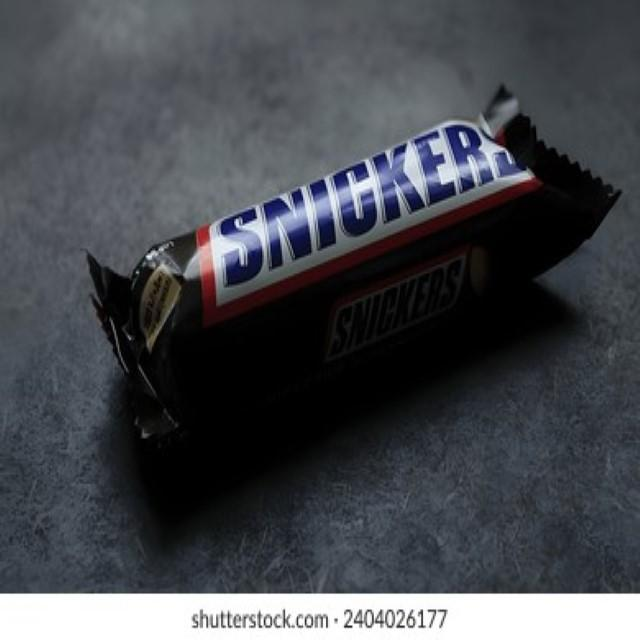snickers_chocolate: (72, 85, 587, 407)
